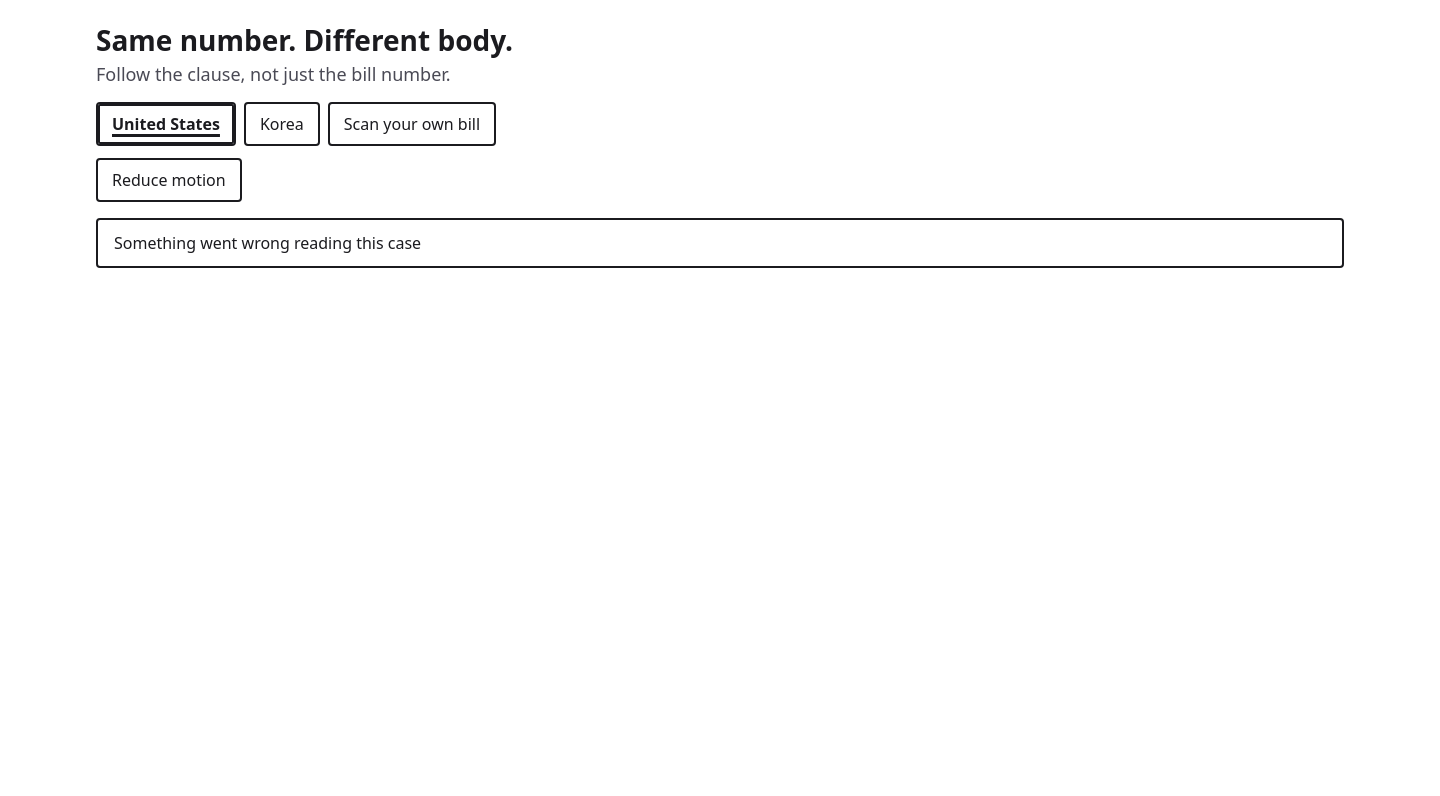
app: a case that fails to render › shows the error sentence and keeps the mode switcher working
The image size is (1440, 796).
Expected: the message reads "Something went wrong reading this case", top-left (114, 232), bottom-right (421, 254)
Expected: the heading reads "Same number. Different body.", top-left (96, 21), bottom-right (513, 59)
Click the button "Scan your own bill".
click(412, 124)  # box top-left (328, 102), bottom-right (496, 146)
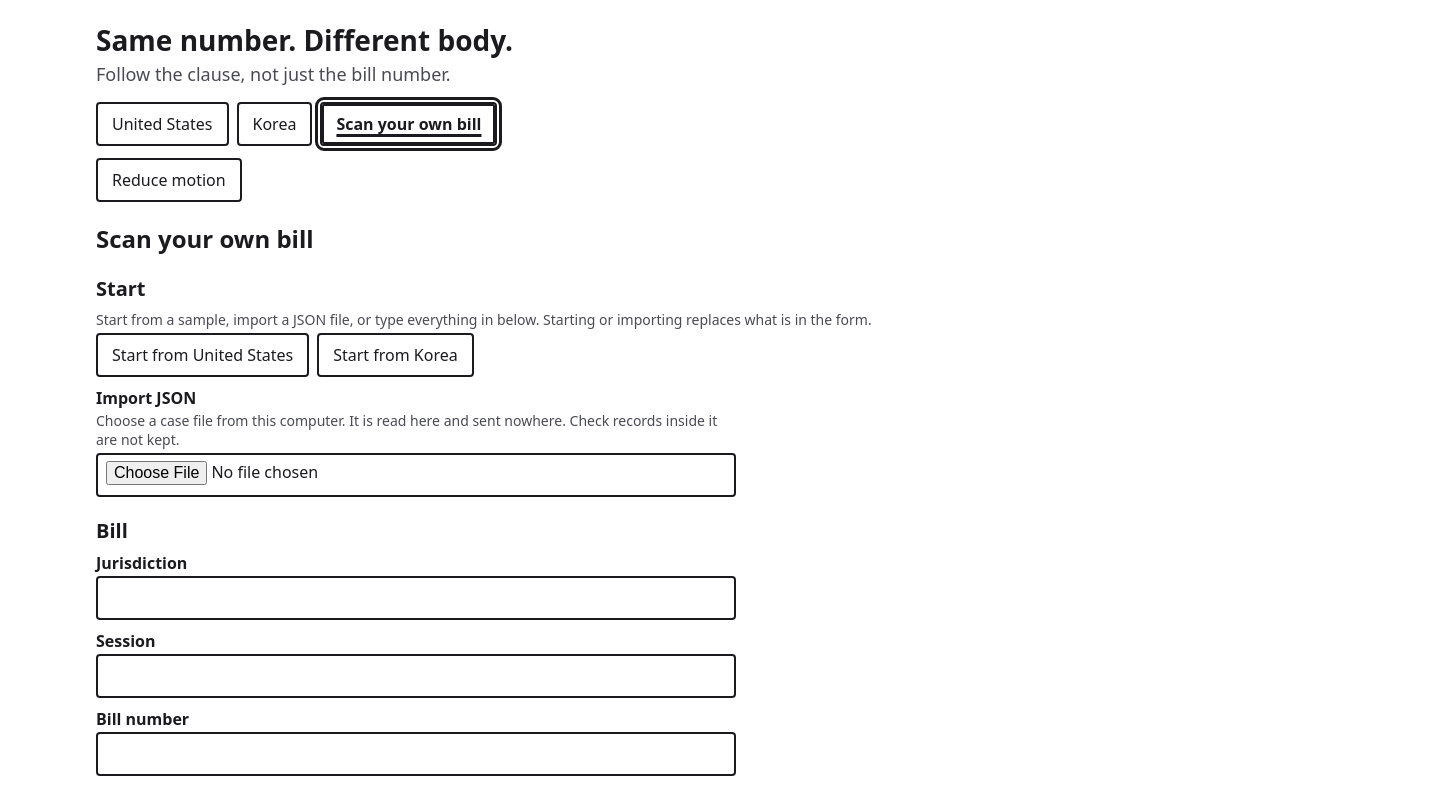
Expected: the message "Something went wrong reading this case" is gone
Click the button "Korea".
click(274, 124)  # box top-left (236, 102), bottom-right (312, 146)
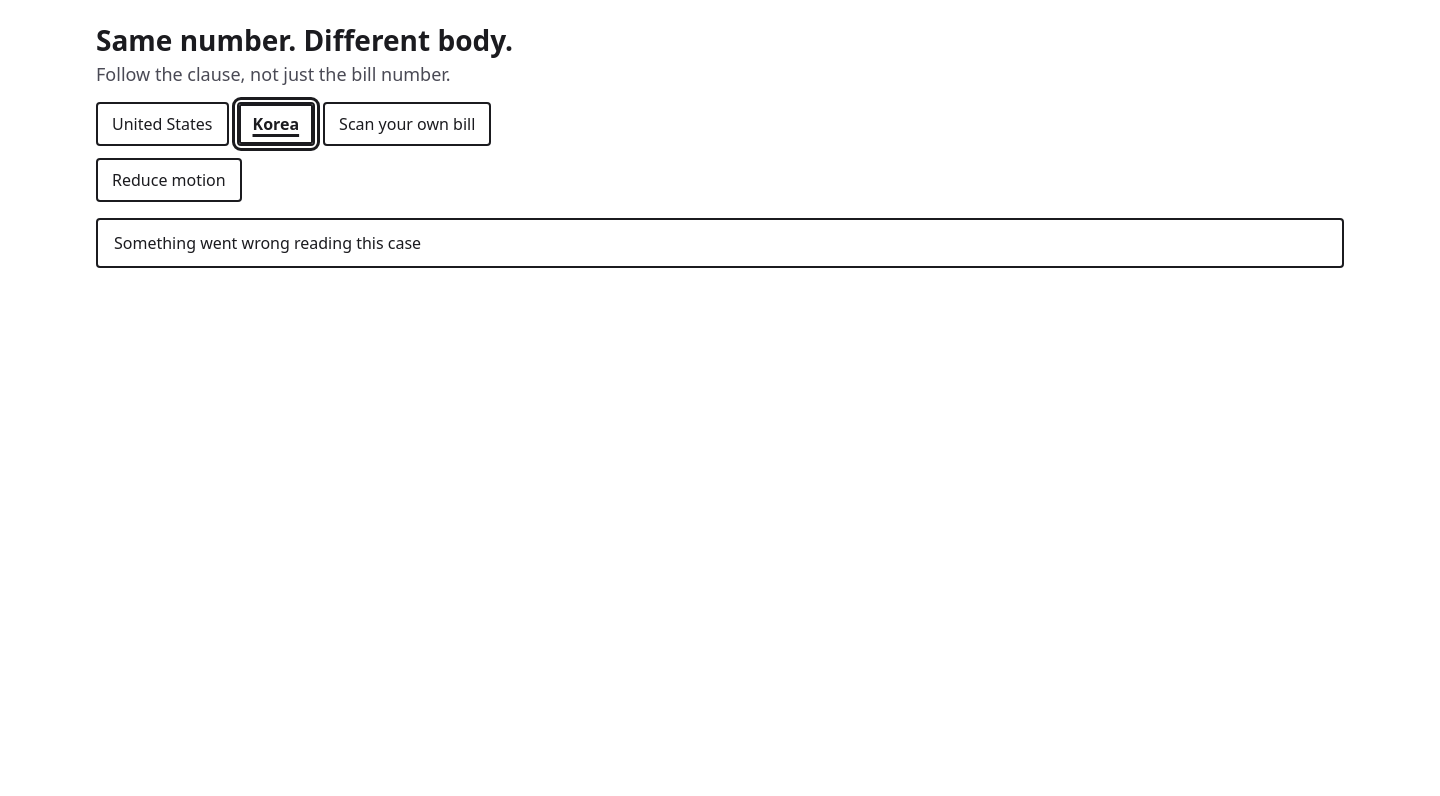
Expected: the message "Something went wrong reading this case" is shown, top-left (96, 218), bottom-right (1344, 268)
